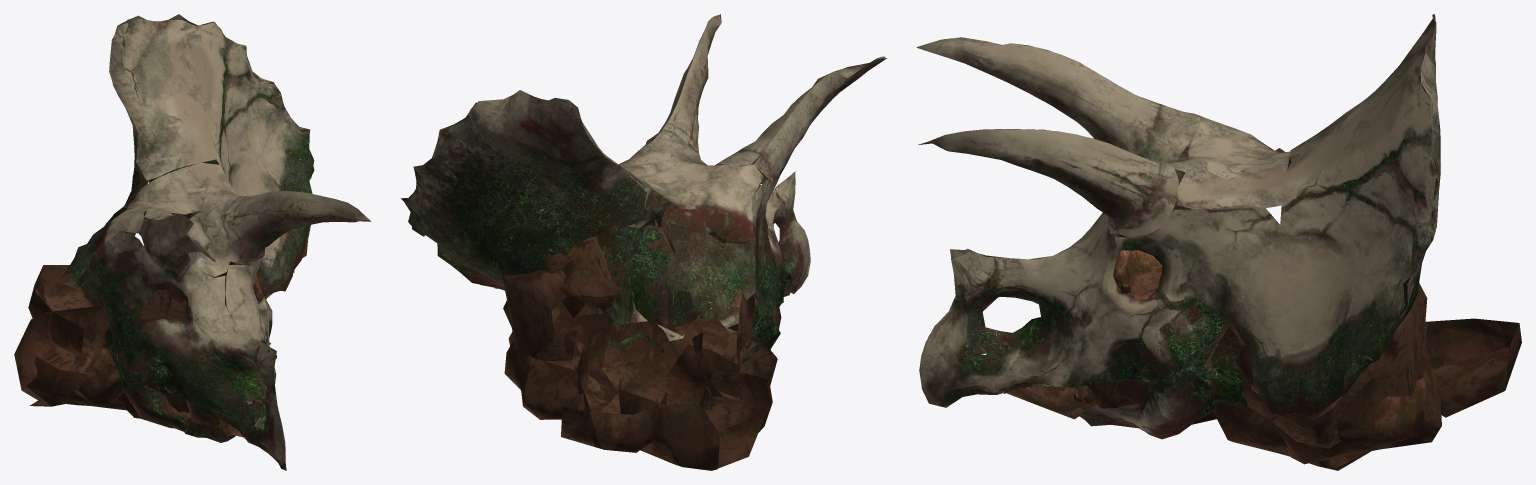
File: falls_bone0.fbx
The picture shows the model from 3 angles, left to right: view 1: azimuth 30°, elevation 25°; view 2: azimuth 150°, elevation 25°; view 3: azimuth 270°, elevation 25°; orthographic projection. The views are drawn at different scales.
Visible parts, largest first — view 1: BoneSaursHead00_low12__BoneSaursHead00, BoneSaursHead00_low12__BoneSaursHead01, RockWall03_low95__RockWall03_spc, Group55703__RockWall03; view 2: BoneSaursHead00_low12__BoneSaursHead01, Group55703__RockWall03, BoneSaursHead00_low12__BoneSaursHead00, RockWall03_low95__RockWall03_spc; view 3: BoneSaursHead00_low12__BoneSaursHead00, BoneSaursHead00_low12__BoneSaursHead01, Group55703__RockWall03, RockWall03_low95__RockWall03_spc, Group55705__RockWallBase00.
Boxes of the visible parts, x1=… form: BoneSaursHead00_low12__BoneSaursHead00: x1=59, y1=190, x2=371, y2=470; BoneSaursHead00_low12__BoneSaursHead01: x1=93, y1=14, x2=314, y2=446; RockWall03_low95__RockWall03_spc: x1=14, y1=245, x2=179, y2=410; Group55703__RockWall03: x1=101, y1=172, x2=277, y2=428; BoneSaursHead00_low12__BoneSaursHead01: x1=401, y1=90, x2=794, y2=363; Group55703__RockWall03: x1=501, y1=195, x2=777, y2=419; BoneSaursHead00_low12__BoneSaursHead00: x1=628, y1=14, x2=886, y2=329; RockWall03_low95__RockWall03_spc: x1=532, y1=322, x2=777, y2=470; BoneSaursHead00_low12__BoneSaursHead00: x1=916, y1=37, x2=1291, y2=407; BoneSaursHead00_low12__BoneSaursHead01: x1=967, y1=14, x2=1440, y2=439; Group55703__RockWall03: x1=987, y1=221, x2=1441, y2=470; RockWall03_low95__RockWall03_spc: x1=1218, y1=318, x2=1521, y2=417; Group55705__RockWallBase00: x1=1006, y1=250, x2=1162, y2=419.
Bounding box in the file's own units: 2229 × 2336 × 2799.
Materials: 5 (5 with a texture image).
